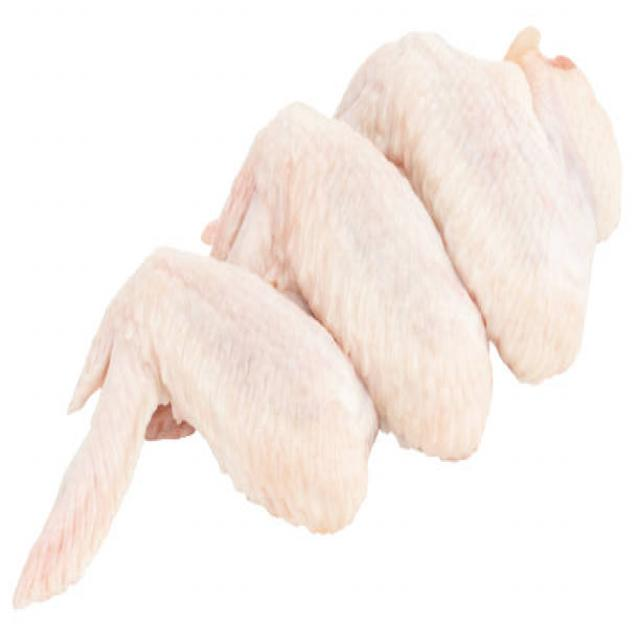Chicken: (8, 253, 364, 625)
